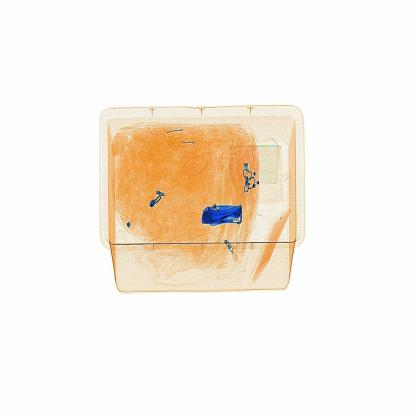knife: (199, 199, 250, 230)
